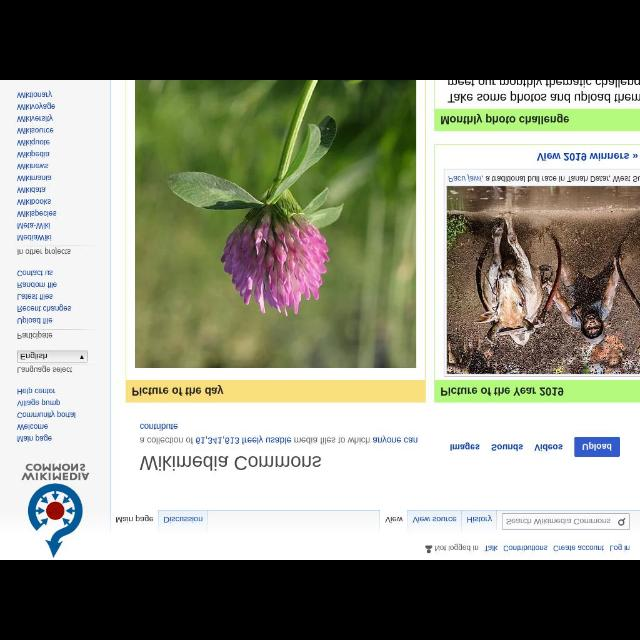icon: (617, 516, 627, 528), (424, 543, 434, 555), (75, 351, 85, 361)
image: (136, 84, 414, 368), (447, 184, 638, 376)
input: (502, 511, 628, 529)
link: (447, 174, 483, 182)
multitab: (113, 510, 631, 532)
spinner: (17, 351, 87, 364)
text: (135, 82, 415, 366), (136, 419, 420, 445), (23, 459, 91, 558), (448, 82, 638, 102), (140, 454, 322, 474), (440, 112, 570, 128), (447, 172, 639, 182), (440, 384, 564, 398), (538, 152, 638, 164), (130, 386, 224, 398), (506, 517, 610, 525), (19, 409, 77, 418), (18, 247, 72, 256), (18, 279, 58, 291), (15, 366, 74, 374), (17, 304, 73, 312), (504, 544, 548, 554), (553, 544, 607, 552), (15, 292, 55, 302), (450, 441, 482, 453), (582, 440, 614, 452), (18, 385, 56, 395), (17, 330, 55, 340), (412, 516, 458, 524), (434, 544, 480, 552), (535, 441, 563, 454), (18, 102, 58, 111), (117, 514, 153, 524), (18, 399, 62, 407), (17, 421, 48, 432), (16, 150, 50, 160), (160, 516, 202, 524), (491, 442, 524, 452), (15, 210, 56, 218), (16, 126, 56, 134), (16, 234, 54, 242), (14, 220, 52, 228), (15, 198, 52, 206), (17, 436, 53, 444), (17, 316, 53, 324), (17, 270, 53, 278), (17, 138, 53, 146), (17, 116, 53, 124), (608, 542, 632, 554), (15, 162, 50, 170), (19, 174, 53, 182), (18, 92, 52, 100), (466, 514, 492, 524), (18, 186, 46, 194), (383, 515, 403, 525), (18, 353, 48, 359), (484, 543, 498, 553)
textbutton: (574, 434, 622, 458)
